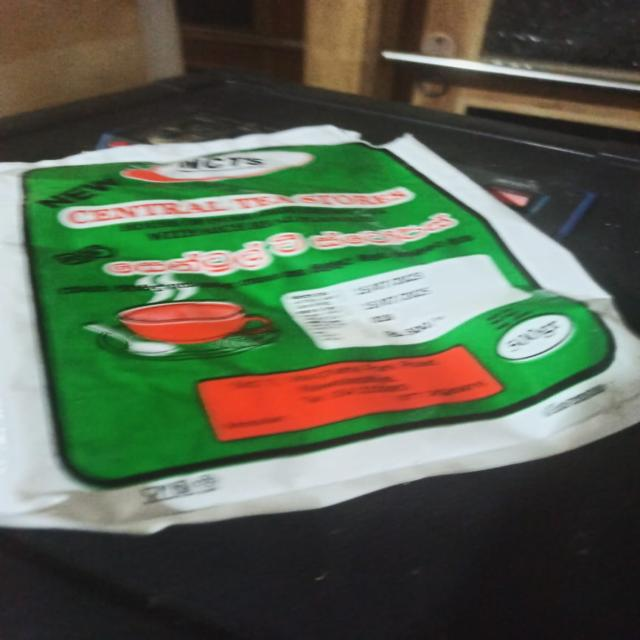Central Tea: (0, 105, 605, 569)
